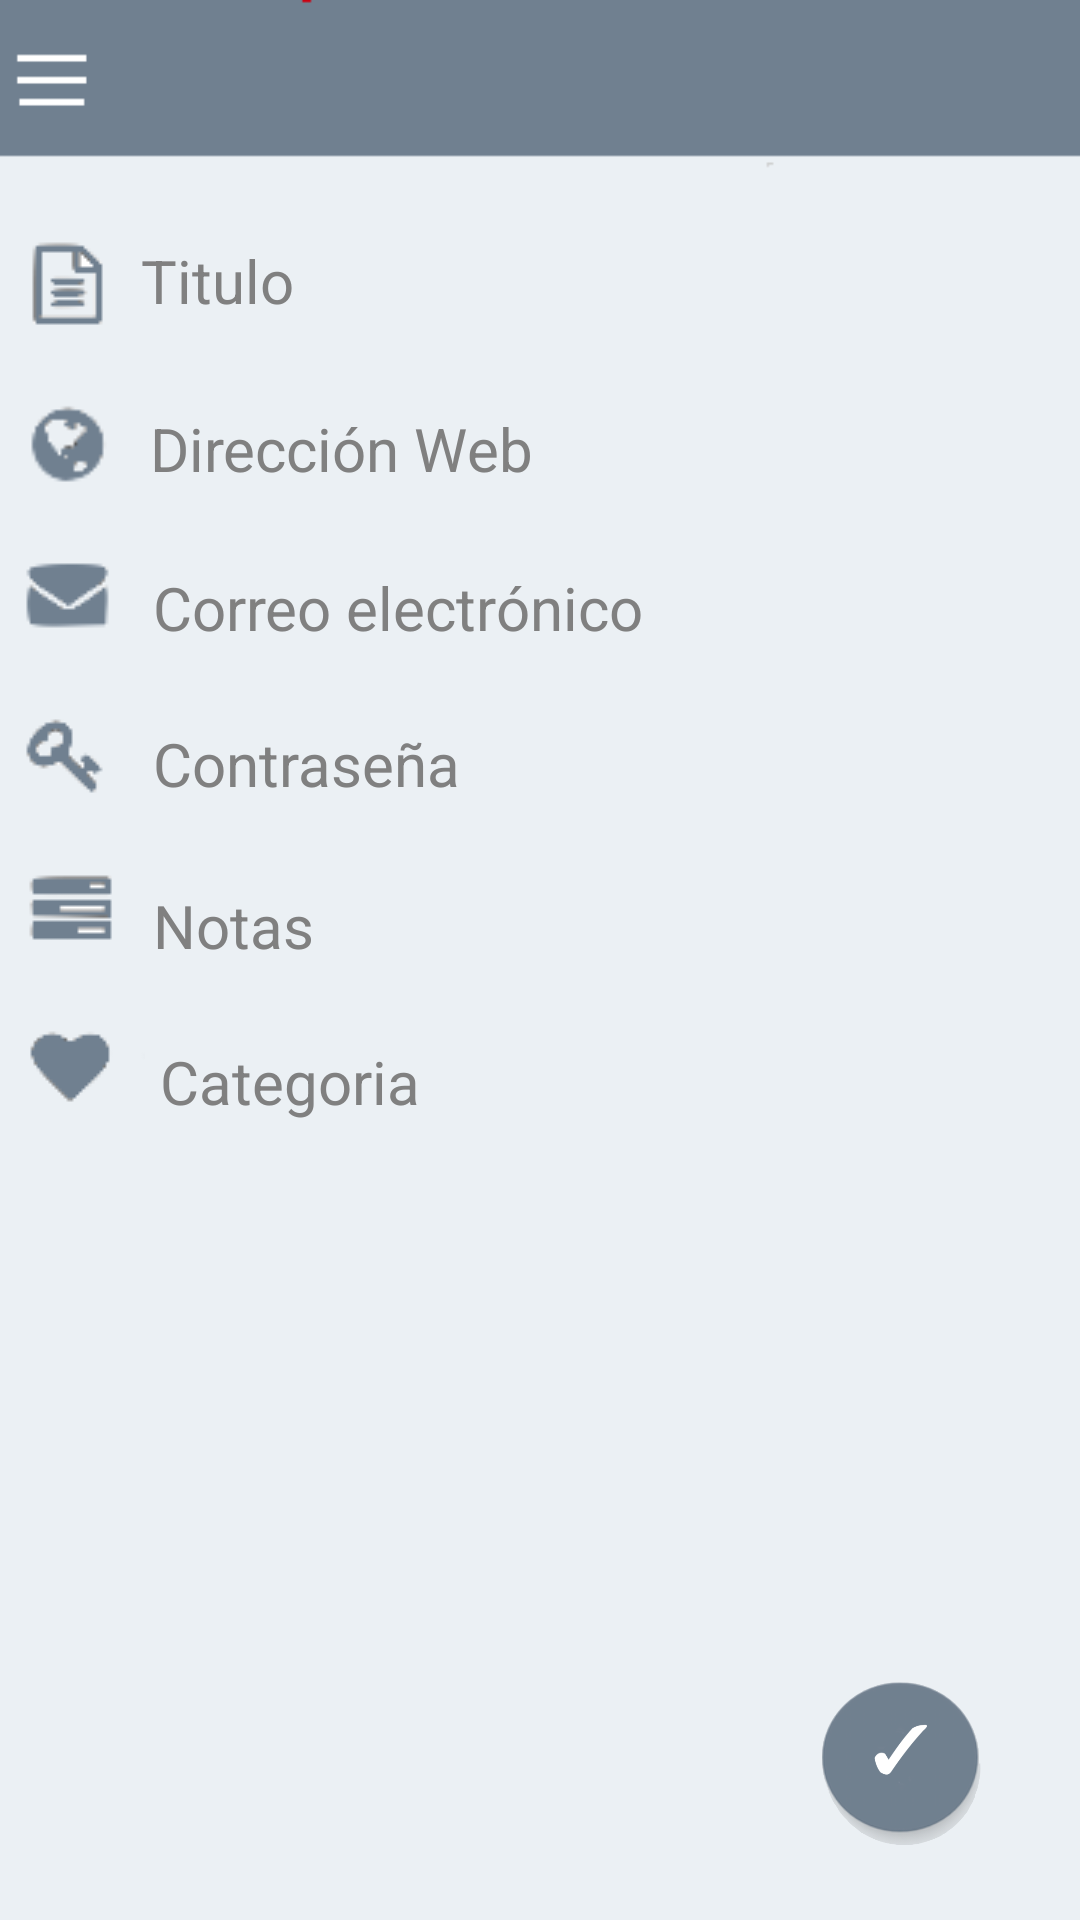

Locate icon controls on the screen. Image size 1080x1920, boxes as region(x1, y1, x2, y2).
global: region(31, 407, 104, 482)
key: region(26, 720, 102, 793)
mail: region(26, 563, 109, 628)
tick: region(822, 1682, 980, 1844)
